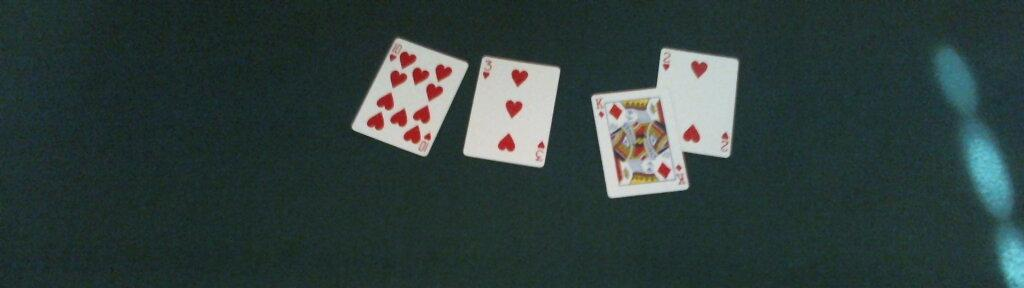king: (588, 88, 689, 197)
ten: (352, 37, 469, 156)
three: (463, 56, 561, 169)
two: (654, 46, 738, 157)
